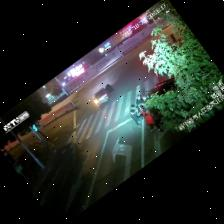person: (140, 108, 156, 131), (150, 108, 164, 131), (131, 104, 141, 127)
